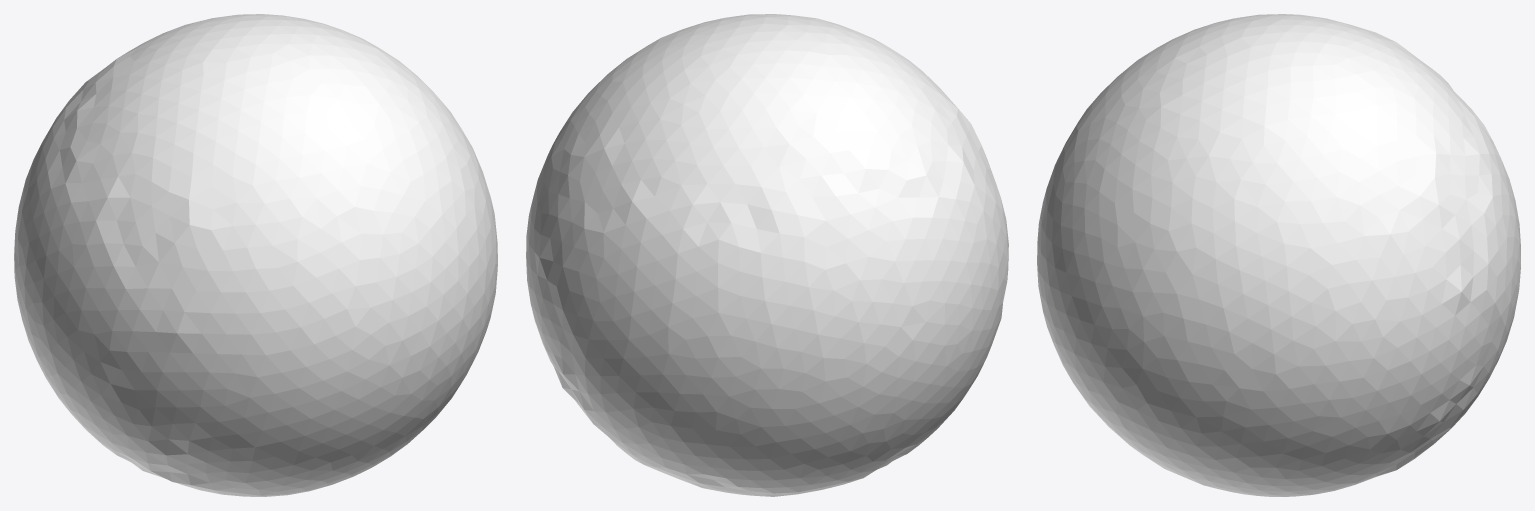
The model's file is plane_rotZ45[0.3,0.0,0.3]s1[-1.7,0.0,-1.7]._00000.obj.
3 renders of one model, left to right at view 1: azimuth 30°, elevation 25°; view 2: azimuth 150°, elevation 25°; view 3: azimuth 270°, elevation 25°, orthographic.
Bounding box in the file's own units: 0.9951 × 0.992 × 0.9928.
Materials: 1 (1 with a texture image).
